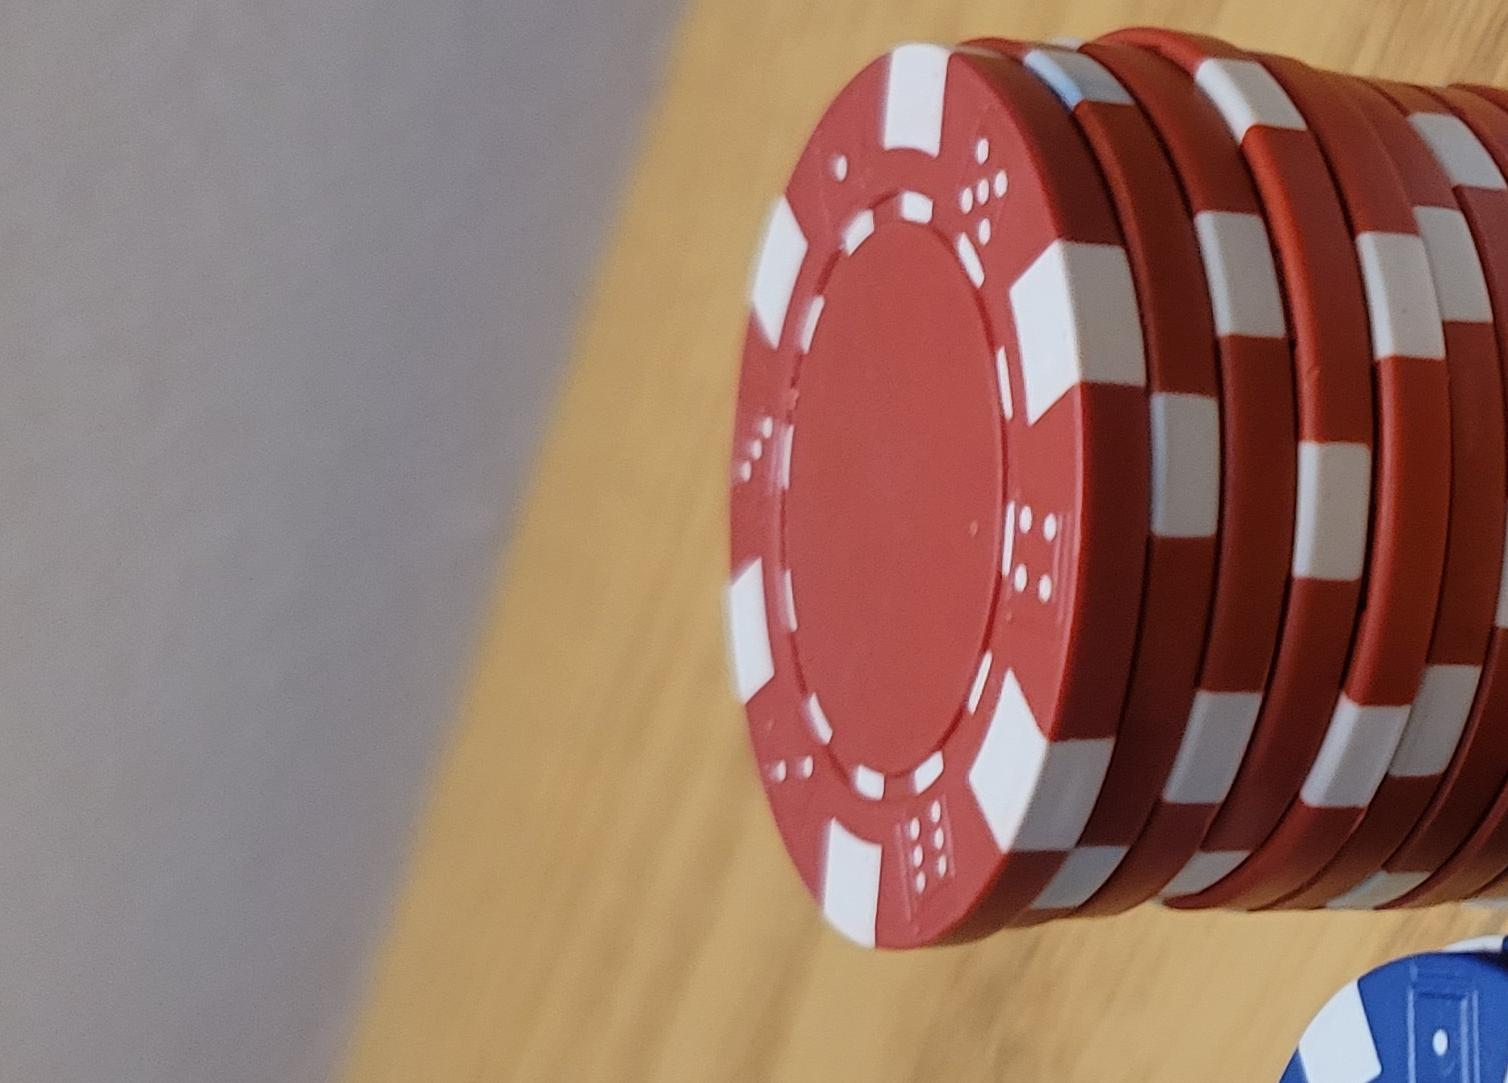Chip: (1, 313, 1092, 1083)
